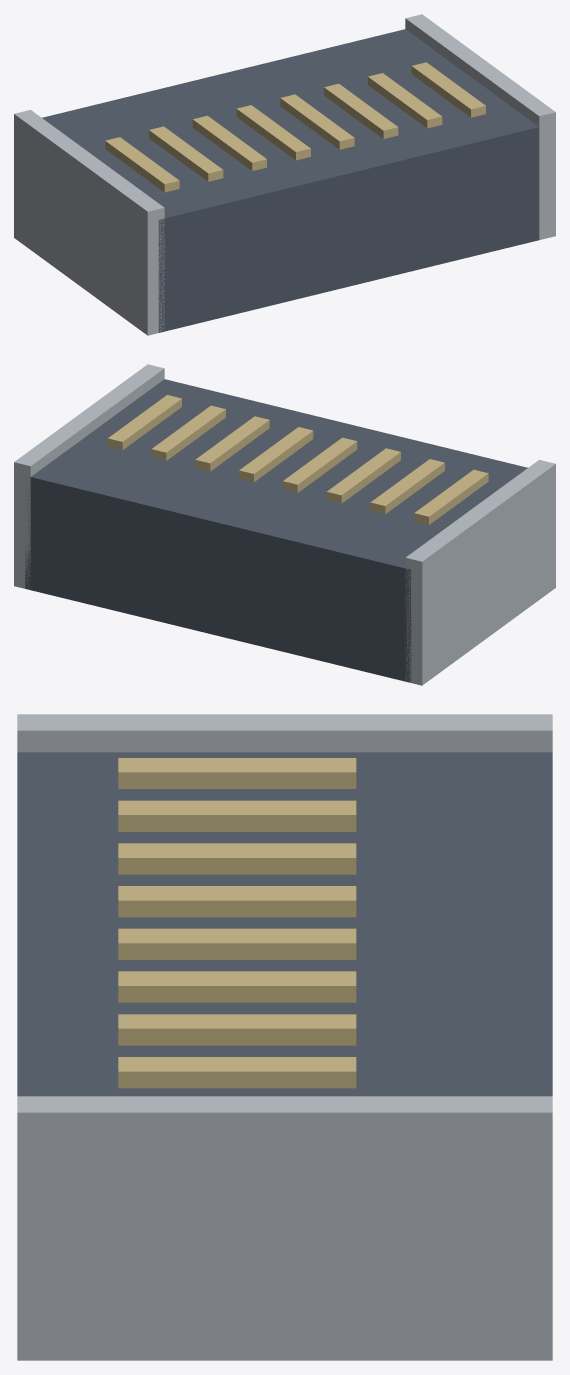
The picture shows the model from 3 angles, top to bottom: view 1: azimuth 30°, elevation 25°; view 2: azimuth 150°, elevation 25°; view 3: azimuth 270°, elevation 25°; orthographic projection. The views are drawn at different scales.
Visible parts, largest first — view 1: part0000__PSMAT__Connector_Polymer, part0009__PSMAT__Aluminum_Brush, part0010__PSMAT__Aluminum_Brush, part0005__PSMAT__Gold_ENIG, part0001__PSMAT__Gold_ENIG, part0002__PSMAT__Gold_ENIG, part0003__PSMAT__Gold_ENIG, part0004__PSMAT__Gold_ENIG, part0006__PSMAT__Gold_ENIG, part0007__PSMAT__Gold_ENIG, part0008__PSMAT__Gold_ENIG; view 2: part0000__PSMAT__Connector_Polymer, part0009__PSMAT__Aluminum_Brush, part0010__PSMAT__Aluminum_Brush, part0001__PSMAT__Gold_ENIG, part0002__PSMAT__Gold_ENIG, part0003__PSMAT__Gold_ENIG, part0006__PSMAT__Gold_ENIG, part0007__PSMAT__Gold_ENIG, part0004__PSMAT__Gold_ENIG, part0005__PSMAT__Gold_ENIG, part0008__PSMAT__Gold_ENIG; view 3: part0010__PSMAT__Aluminum_Brush, part0000__PSMAT__Connector_Polymer, part0009__PSMAT__Aluminum_Brush, part0003__PSMAT__Gold_ENIG, part0006__PSMAT__Gold_ENIG, part0007__PSMAT__Gold_ENIG, part0002__PSMAT__Gold_ENIG, part0004__PSMAT__Gold_ENIG, part0005__PSMAT__Gold_ENIG, part0008__PSMAT__Gold_ENIG, part0001__PSMAT__Gold_ENIG.
Boxes of the visible parts, x1,y1,x2,y2 form: part0000__PSMAT__Connector_Polymer: (42,29,539,332); part0009__PSMAT__Aluminum_Brush: (14,109,164,335); part0010__PSMAT__Aluminum_Brush: (405,14,555,239); part0005__PSMAT__Gold_ENIG: (280,94,354,149); part0001__PSMAT__Gold_ENIG: (105,137,179,192); part0002__PSMAT__Gold_ENIG: (149,126,223,181); part0003__PSMAT__Gold_ENIG: (192,115,266,170); part0004__PSMAT__Gold_ENIG: (236,105,310,160); part0006__PSMAT__Gold_ENIG: (324,83,398,138); part0007__PSMAT__Gold_ENIG: (368,73,442,128); part0008__PSMAT__Gold_ENIG: (411,62,485,117); part0000__PSMAT__Connector_Polymer: (25,379,527,682); part0009__PSMAT__Aluminum_Brush: (405,459,555,685); part0010__PSMAT__Aluminum_Brush: (14,364,164,589); part0001__PSMAT__Gold_ENIG: (414,469,488,524); part0002__PSMAT__Gold_ENIG: (370,459,444,514); part0003__PSMAT__Gold_ENIG: (326,448,400,503); part0006__PSMAT__Gold_ENIG: (195,416,269,471); part0007__PSMAT__Gold_ENIG: (151,405,225,460); part0004__PSMAT__Gold_ENIG: (283,437,357,492); part0005__PSMAT__Gold_ENIG: (239,427,313,482); part0008__PSMAT__Gold_ENIG: (107,395,181,450); part0010__PSMAT__Aluminum_Brush: (17,1096,552,1360); part0000__PSMAT__Connector_Polymer: (17,752,552,1096); part0009__PSMAT__Aluminum_Brush: (17,714,552,752); part0003__PSMAT__Gold_ENIG: (118,843,356,874); part0006__PSMAT__Gold_ENIG: (118,971,356,1002); part0007__PSMAT__Gold_ENIG: (118,1014,356,1045); part0002__PSMAT__Gold_ENIG: (118,800,356,831); part0004__PSMAT__Gold_ENIG: (118,886,356,917); part0005__PSMAT__Gold_ENIG: (118,928,356,959); part0008__PSMAT__Gold_ENIG: (118,1057,356,1088); part0001__PSMAT__Gold_ENIG: (118,758,356,788).
Size of the model in its own units: 0.0159 by 0.0046 by 0.009.
